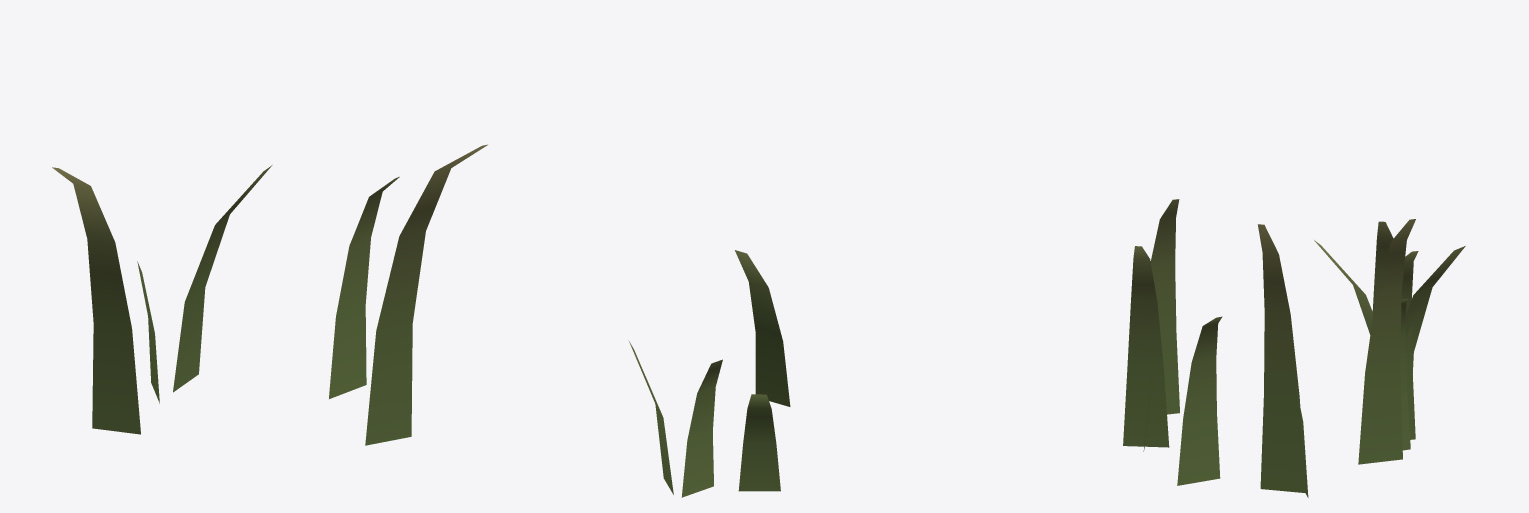
File: Veg_DuneGrass.glb
3 renders of one model, left to right at view 1: azimuth 30°, elevation 25°; view 2: azimuth 150°, elevation 25°; view 3: azimuth 270°, elevation 25°, orthographic. The views are drawn at different scales.
Visible parts, largest first — view 1: Veg_DuneGrass; view 2: Veg_DuneGrass; view 3: Veg_DuneGrass.
Boxes of the visible parts, x1,y1,x2,y2 form: Veg_DuneGrass: (52,144,487,445); Veg_DuneGrass: (628,250,790,497); Veg_DuneGrass: (1123,199,1465,497).
Size of the model in its own units: 0.5745 by 0.468 by 0.6433.
